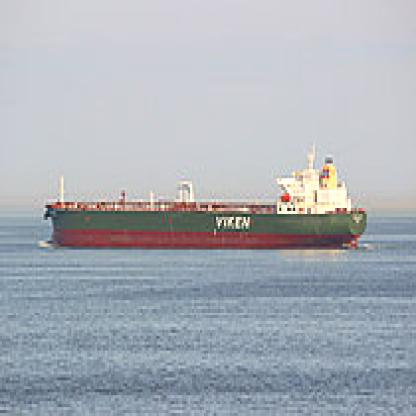Tanker: (38, 146, 378, 262)
